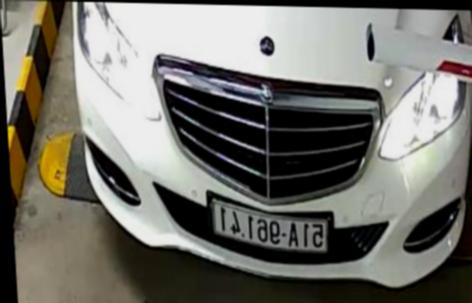License_Plate: (206, 199, 335, 255)
